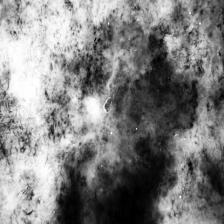Benign Marking or Mole: (44, 19, 196, 224)
